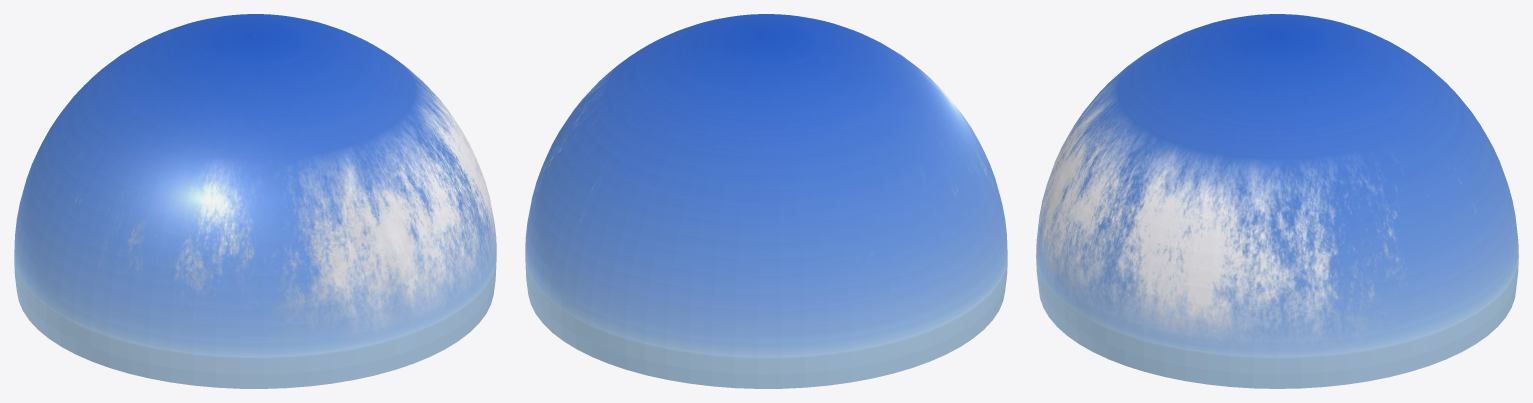
File: exterior.glb
3 renders of one model, left to right at view 1: azimuth 30°, elevation 25°; view 2: azimuth 150°, elevation 25°; view 3: azimuth 270°, elevation 25°, orthographic.
Visible parts, largest first — view 1: Sky_Dome; view 2: Sky_Dome; view 3: Sky_Dome.
Boxes of the visible parts, left/top/right/bottom form: Sky_Dome: left=14, top=14, right=496, bottom=388; Sky_Dome: left=525, top=14, right=1007, bottom=388; Sky_Dome: left=1036, top=14, right=1518, bottom=388.
Bounding box in the file's own units: 1300 × 747 × 1300.
Materials: 27 (16 with a texture image).
